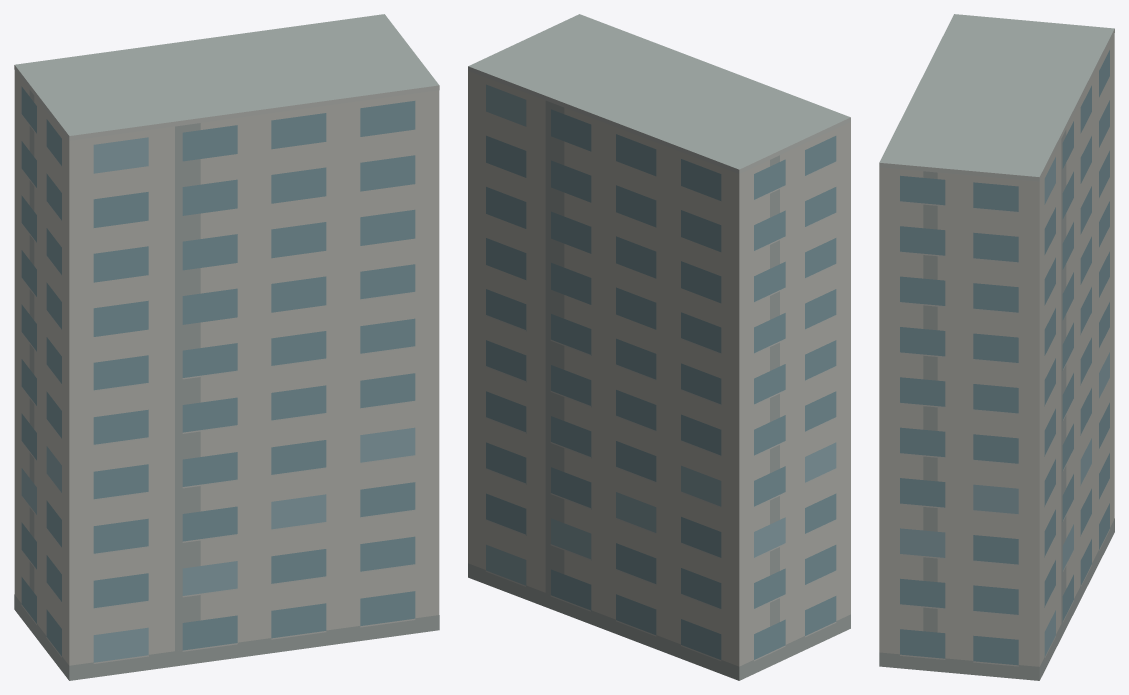
Rendered from residential-84c0514a-82bf-4938-a5a6-72a2d9619bb2.glb.
3 renders of one model, left to right at view 1: azimuth 30°, elevation 25°; view 2: azimuth 150°, elevation 25°; view 3: azimuth 270°, elevation 25°, orthographic. The views are drawn at different scales.
Visible parts, largest first — view 1: residential-84c0514a-82bf-4938-a5a6-72a2d9619bb2.tmp; view 2: residential-84c0514a-82bf-4938-a5a6-72a2d9619bb2.tmp; view 3: residential-84c0514a-82bf-4938-a5a6-72a2d9619bb2.tmp.
Part boxes in pixels (x1,y1,x2,y2): residential-84c0514a-82bf-4938-a5a6-72a2d9619bb2.tmp: (14, 14, 439, 680); residential-84c0514a-82bf-4938-a5a6-72a2d9619bb2.tmp: (468, 14, 850, 680); residential-84c0514a-82bf-4938-a5a6-72a2d9619bb2.tmp: (879, 14, 1114, 680).
Size of the model in its own units: 18.76 by 27 by 11.46.
